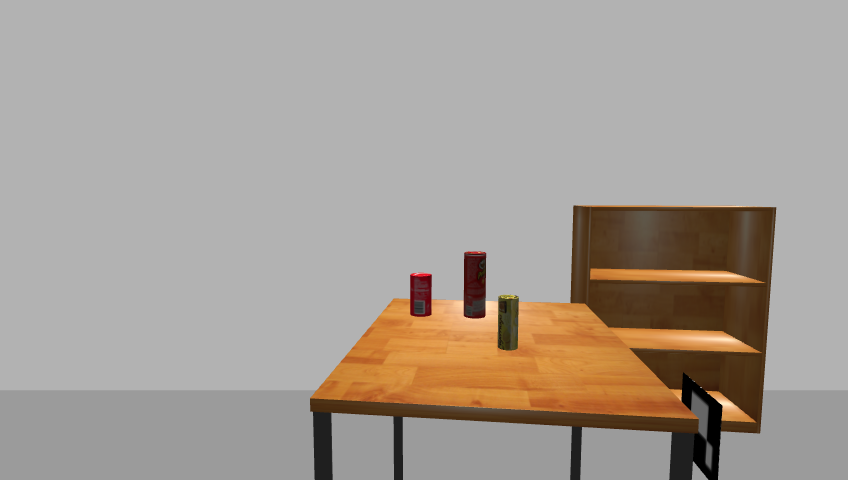aruco marker: (677, 373, 726, 479)
biscuits pack: (498, 295, 520, 352)
bookshelf: (567, 203, 783, 440)
coke can: (408, 272, 434, 318)
dinner table: (305, 296, 704, 480)
pringles can: (461, 250, 488, 320)
